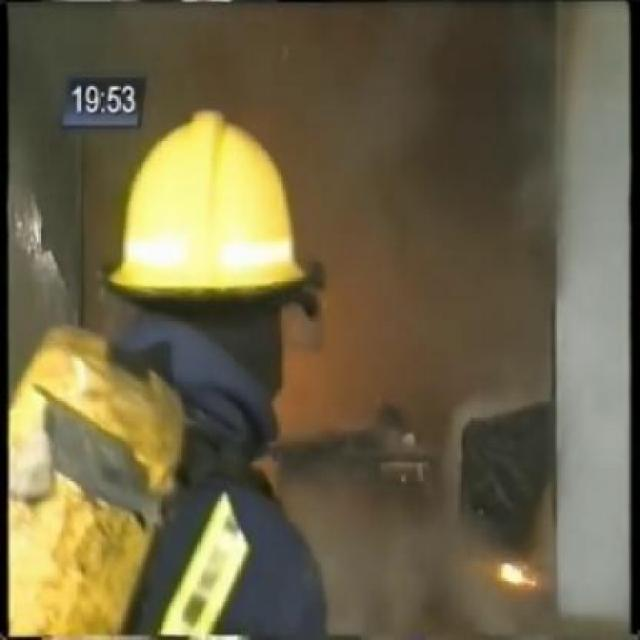fire: (487, 546, 545, 594)
smoke: (288, 29, 570, 628)
